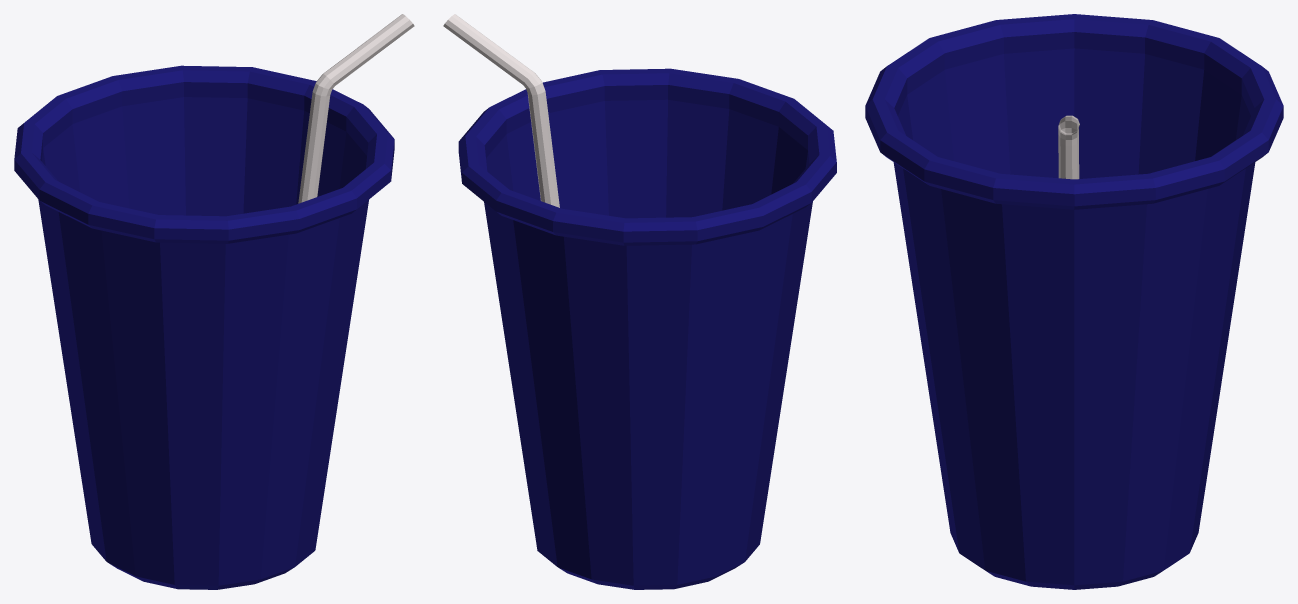
The model's file is cup.fbx.
The picture shows the model from 3 angles, left to right: view 1: azimuth 30°, elevation 25°; view 2: azimuth 150°, elevation 25°; view 3: azimuth 270°, elevation 25°; orthographic projection. The views are drawn at different scales.
Visible parts, largest first — view 1: MUGG; view 2: MUGG; view 3: MUGG.
Boxes of the visible parts, left/top/right/bottom form: MUGG: left=14, top=14, right=414, bottom=589; MUGG: left=443, top=14, right=836, bottom=589; MUGG: left=865, top=14, right=1283, bottom=589.
Size of the model in its own units: 173 by 217 by 154.
